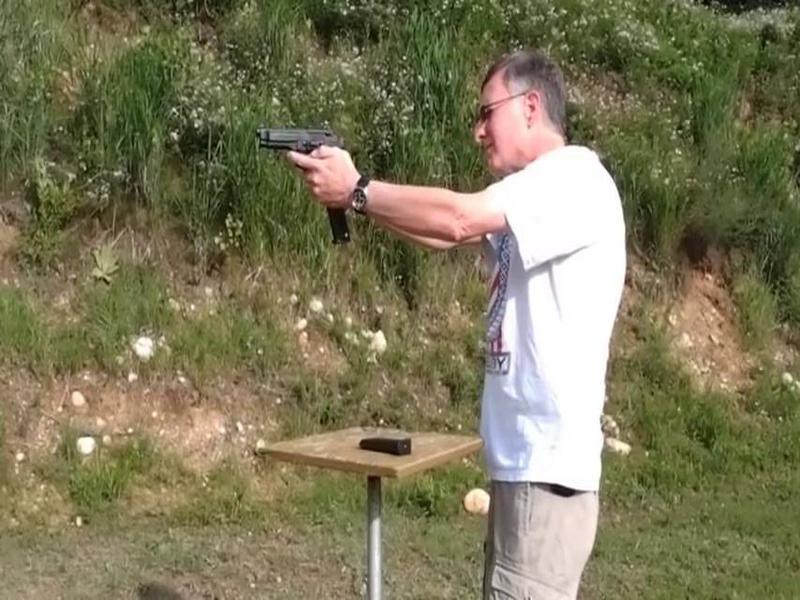Pistola: (255, 111, 365, 218)
